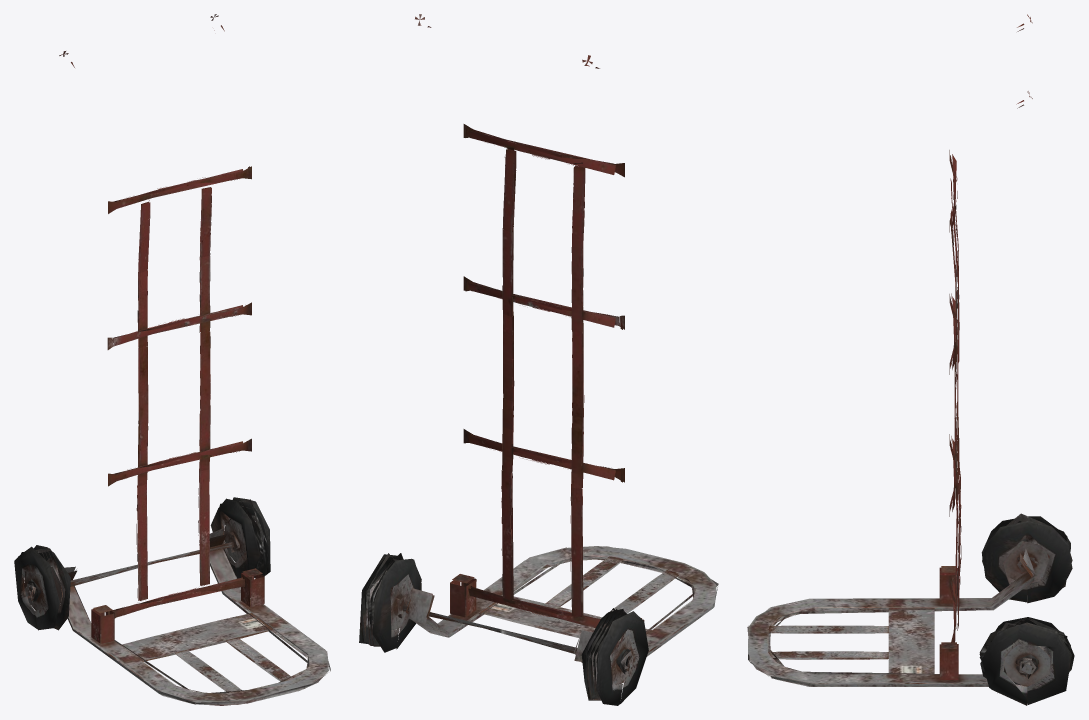
The model's file is hand_truck_1k.gltf.lod.glb.
3 views of the same model, side by side, from view 1: azimuth 30°, elevation 25°; view 2: azimuth 150°, elevation 25°; view 3: azimuth 270°, elevation 25° (orthographic). The views are drawn at different scales.
Visible parts, largest first — view 1: hand_truck; view 2: hand_truck; view 3: hand_truck.
Part boxes in pixels (x1,y1,x2,y2): hand_truck: [14, 14, 330, 705]; hand_truck: [359, 14, 718, 705]; hand_truck: [747, 14, 1074, 705].
Size of the model in its own units: 0.5933 by 1.41 by 0.6966.
1 material, 1 textured.
